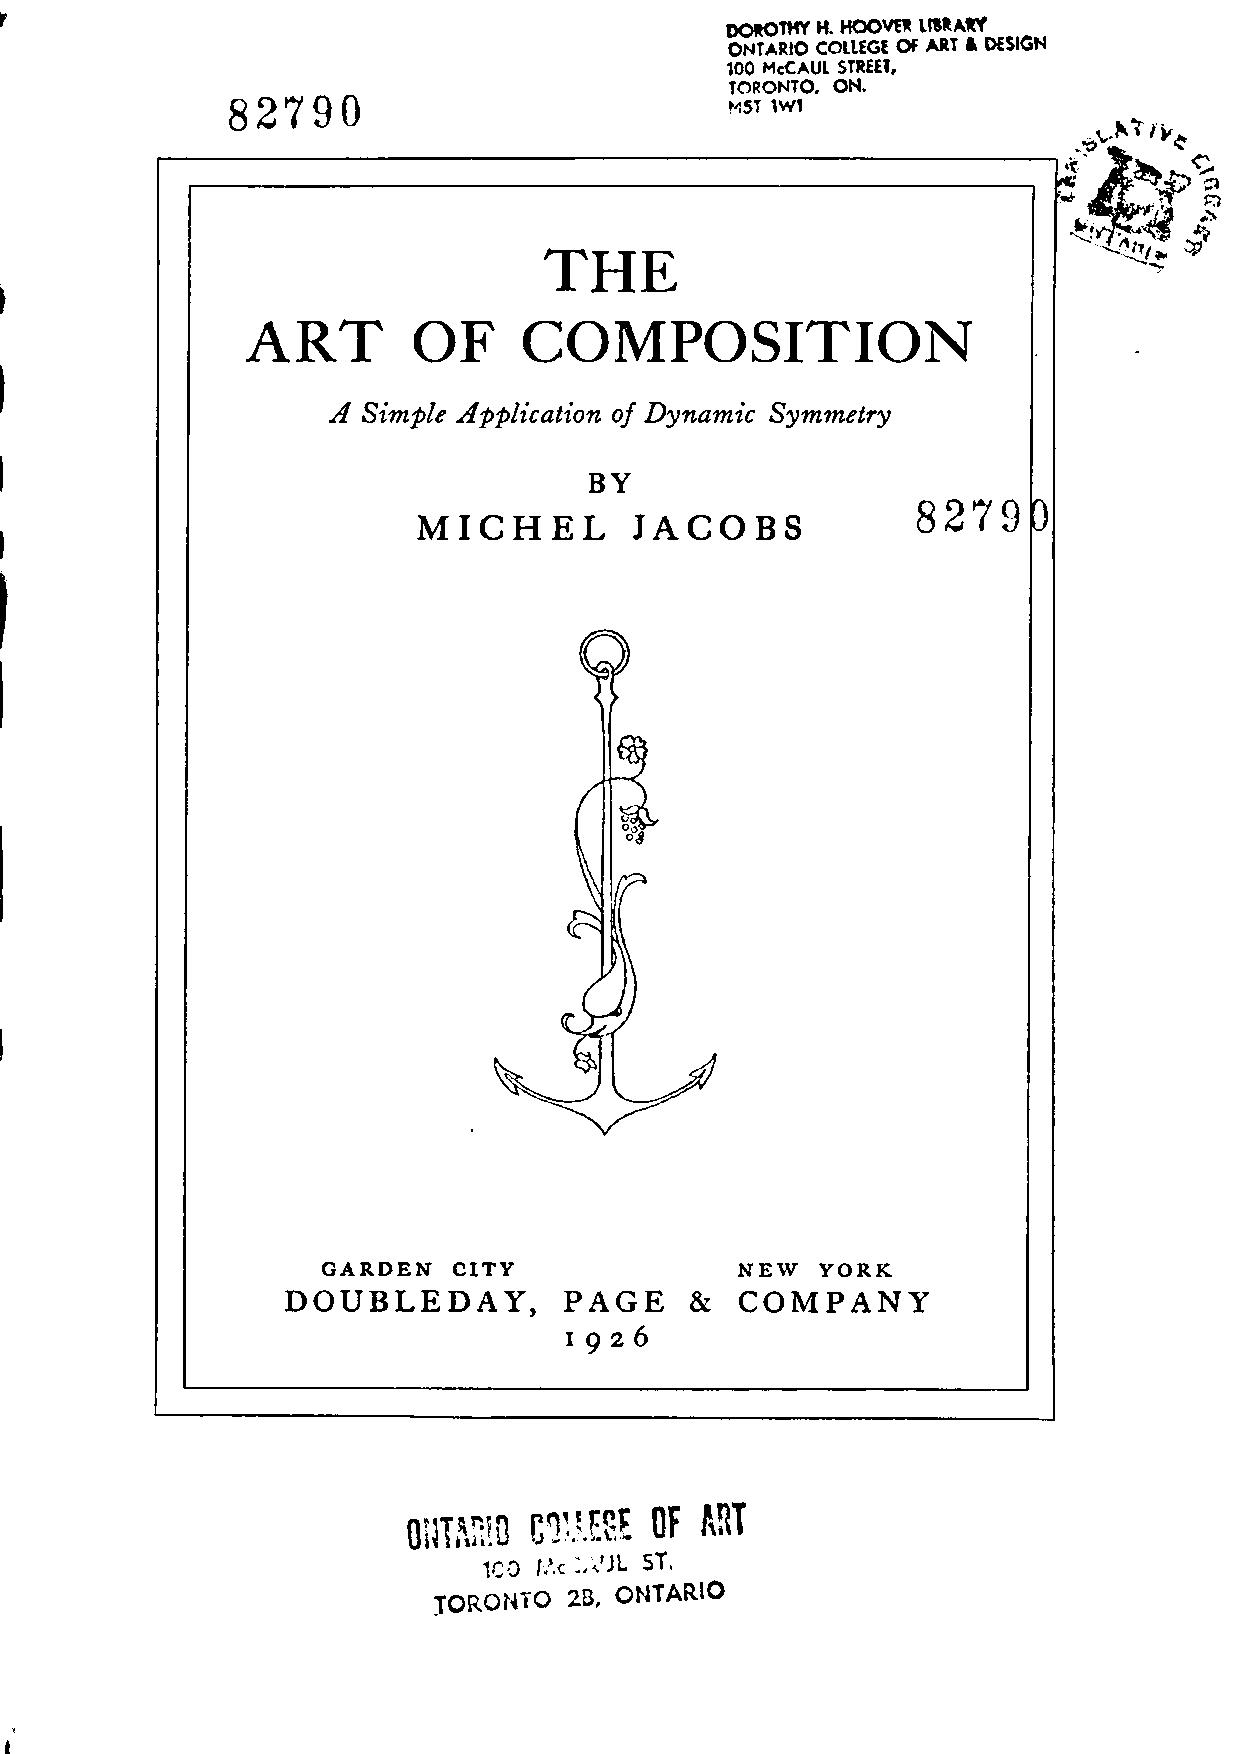author: (413, 470, 803, 541)
title: (242, 247, 974, 429)
